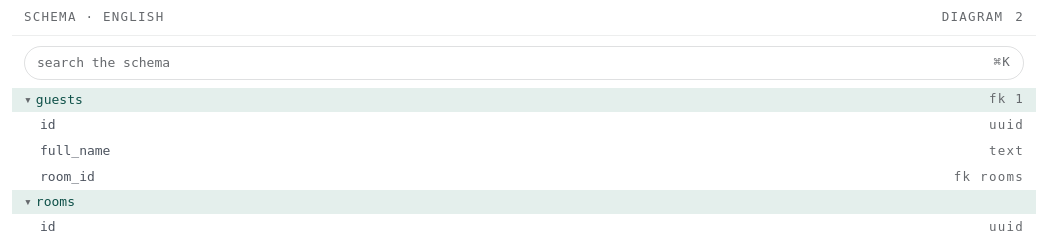
Scenario: the schema panel › says so when nothing matches, rather than looking empty
This screenshot has width=1048, height=248.
Type "zzz" into the field named "Search the database schema". click: (511, 63)
box: [37, 51, 985, 75]
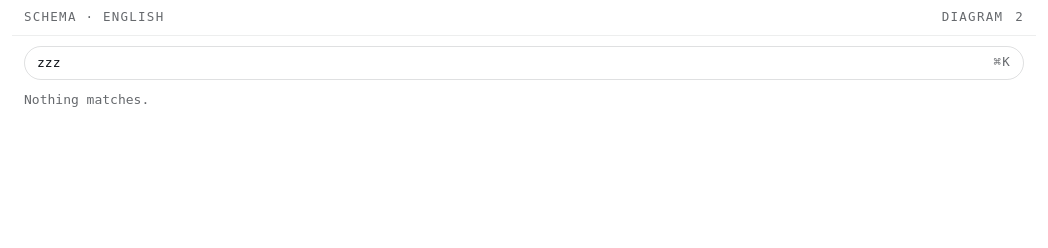
Expected: the text "Nothing matches." is shown, [24, 92, 149, 107]
